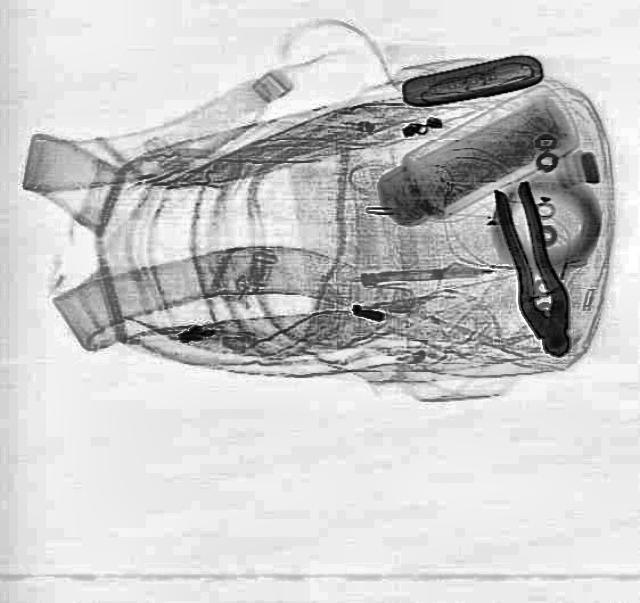Pliers: (481, 179, 583, 361)
